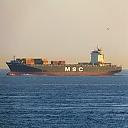Ships: (6, 48, 126, 78)
